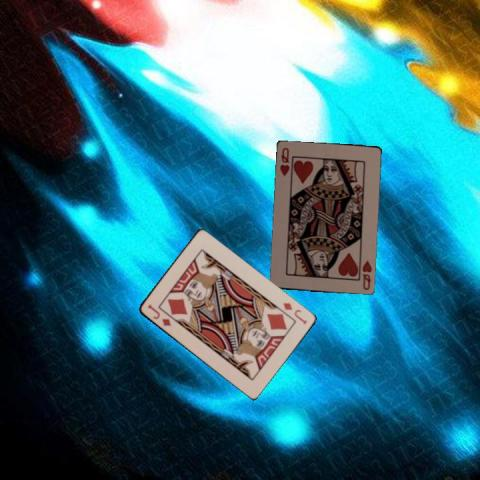Jd: (279, 299, 308, 326), (144, 301, 172, 328)
Qh: (360, 258, 374, 292), (278, 145, 291, 177)
